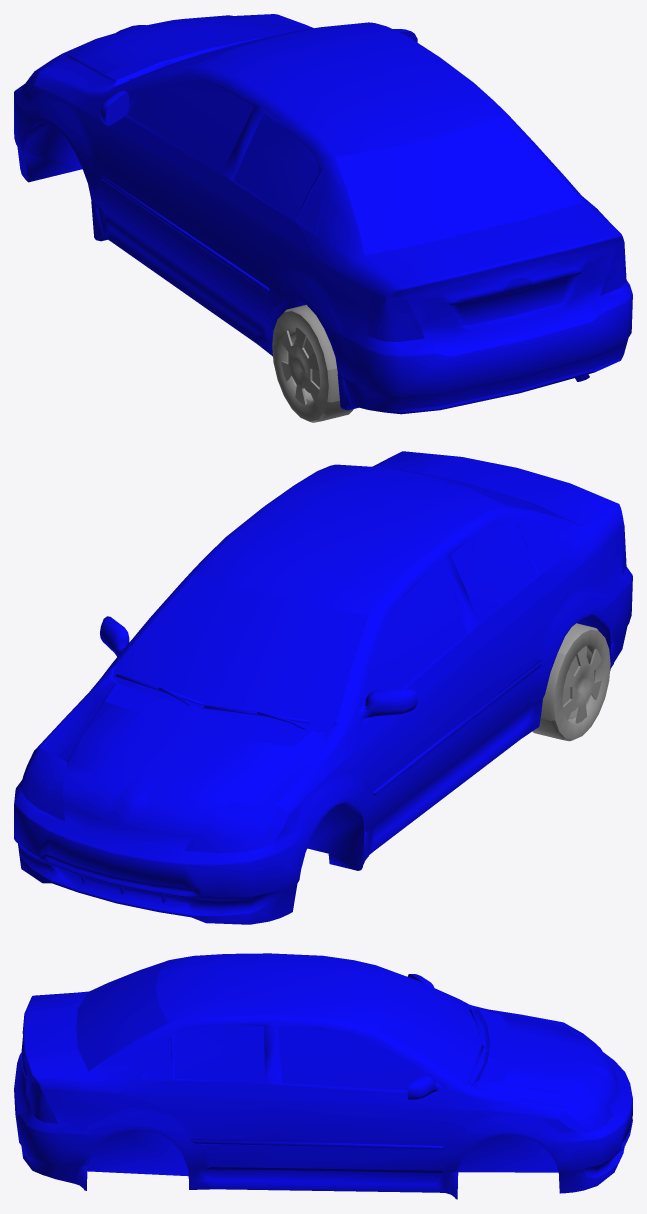
Rendered from Car00_b.FBX.
The picture shows the model from 3 angles, top to bottom: view 1: azimuth 30°, elevation 25°; view 2: azimuth 150°, elevation 25°; view 3: azimuth 270°, elevation 25°; orthographic projection. The views are drawn at different scales.
Visible parts, largest first — view 1: Car00_body001, Car00_wheel_l001; view 2: Car00_body001, Car00_wheel_l001; view 3: Car00_body001.
Part boxes in pixels (box(x1,y1,x2,y2)): Car00_body001: box(14, 14, 632, 414); Car00_wheel_l001: box(272, 305, 353, 422); Car00_body001: box(14, 451, 632, 924); Car00_wheel_l001: box(532, 623, 610, 741); Car00_body001: box(14, 953, 632, 1199).
Size of the model in its own units: 182 by 138 by 416.
